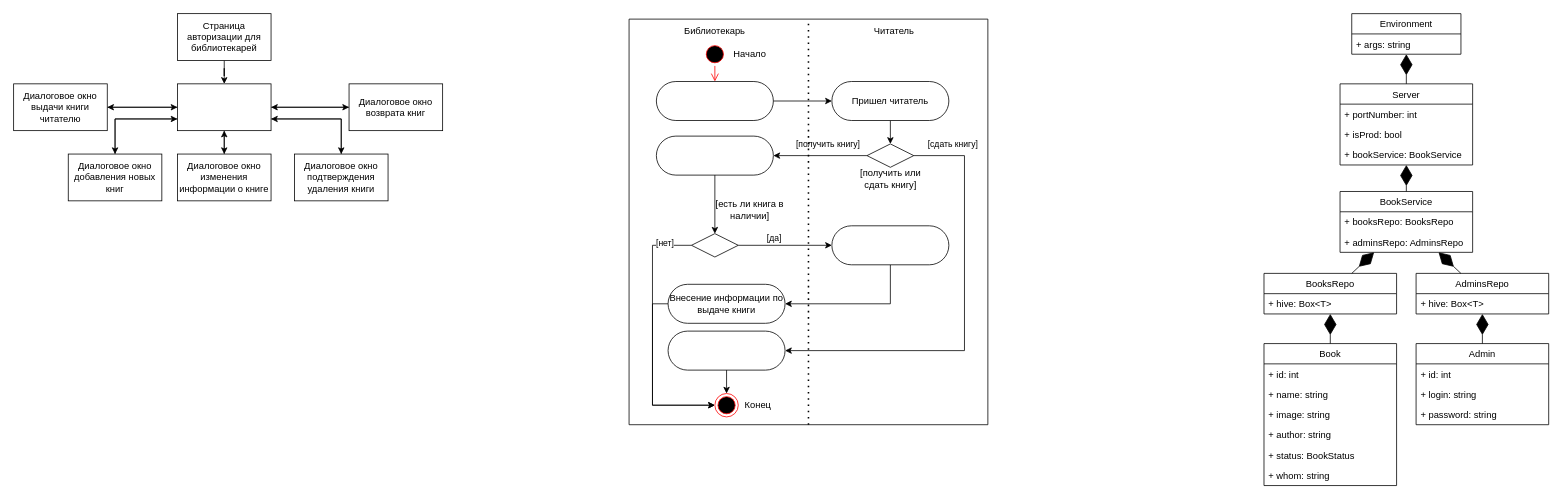
The diagram is 1562 pixels wide and 502 high, and some of its shapes have lost their labels. Each missing label, with the centre of its shape:
Авторизация в панель администратора: (714,101)
Внесение информации по сдаче книги в библиотеку: (726,350)
Панель администратора библиотеки: (224,107)
Предоставление ФИО и номера группы (если студент): (890,245)
Проверка наличия книги: (714,155)
